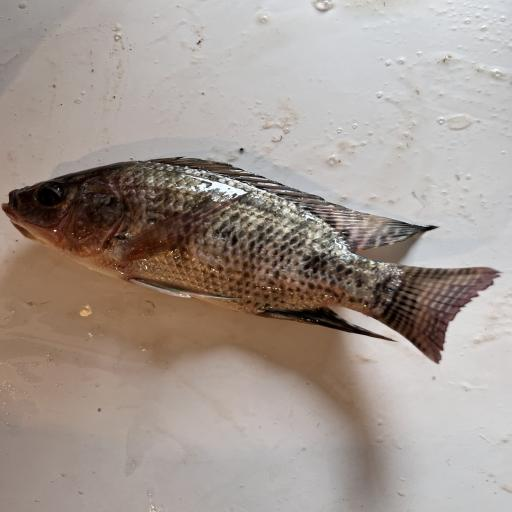Tilapia: (1, 156, 501, 364)
